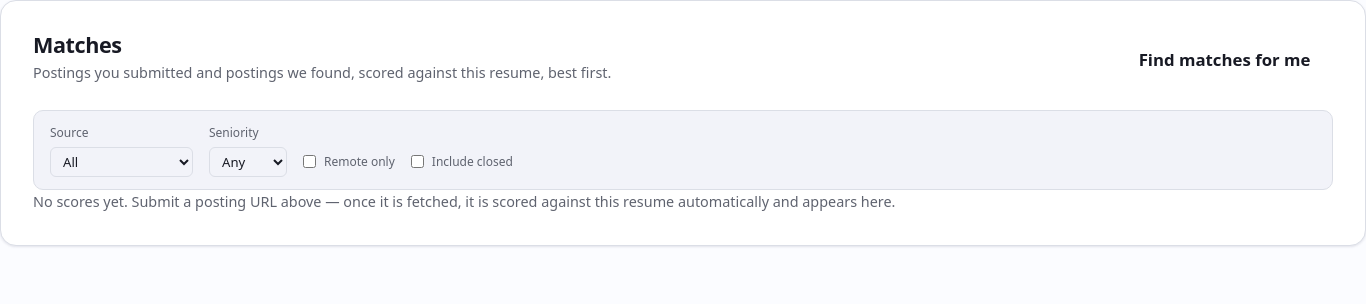
Test: find matches for me › reports a failure rather than looking like the button did nothing
Click the button "Find matches for me".
click(1224, 59)  # box 1116,33 -> 1333,86
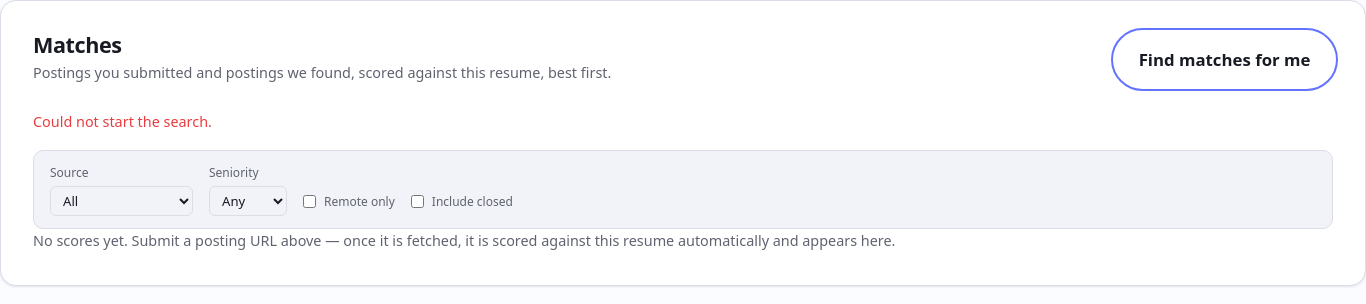
Result: the message "Could not start the search." is shown at 33,112 -> 212,131
